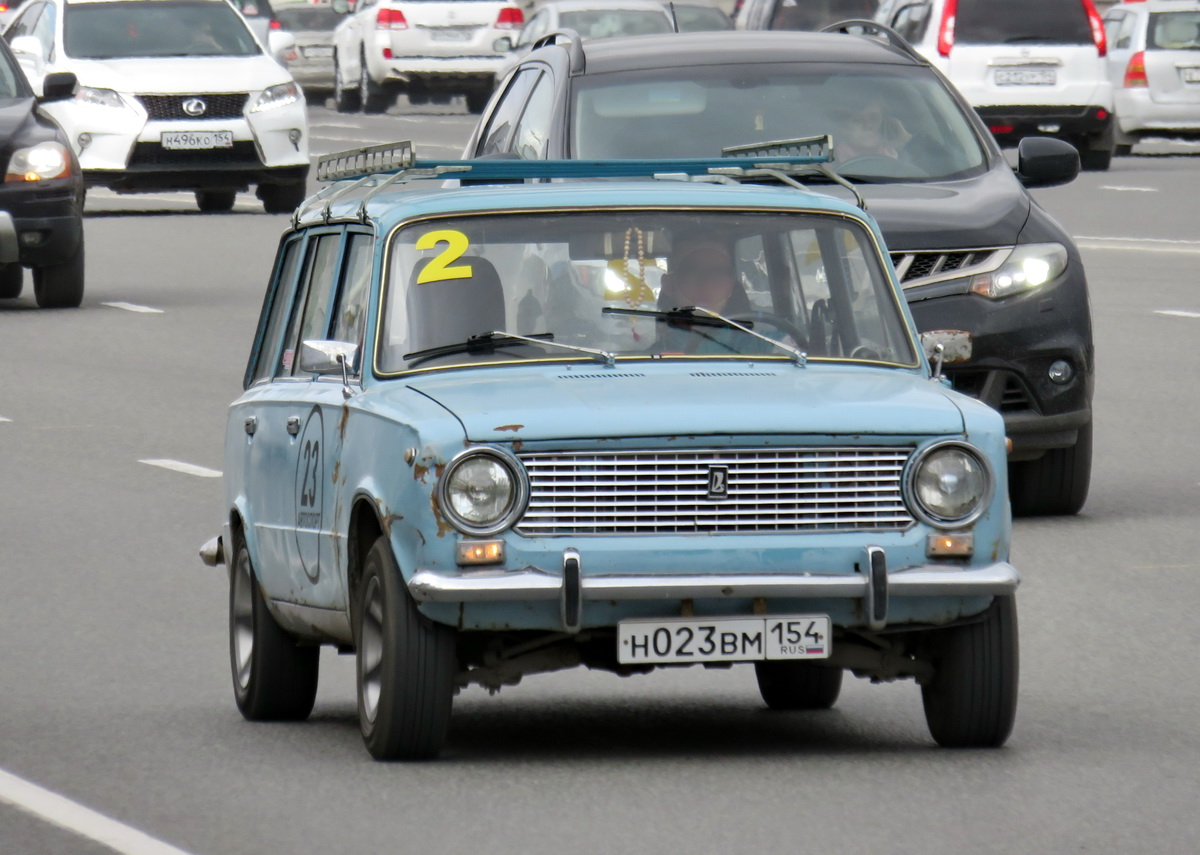number_plate: (619, 618, 833, 659), (161, 128, 234, 149), (990, 67, 1060, 86)
